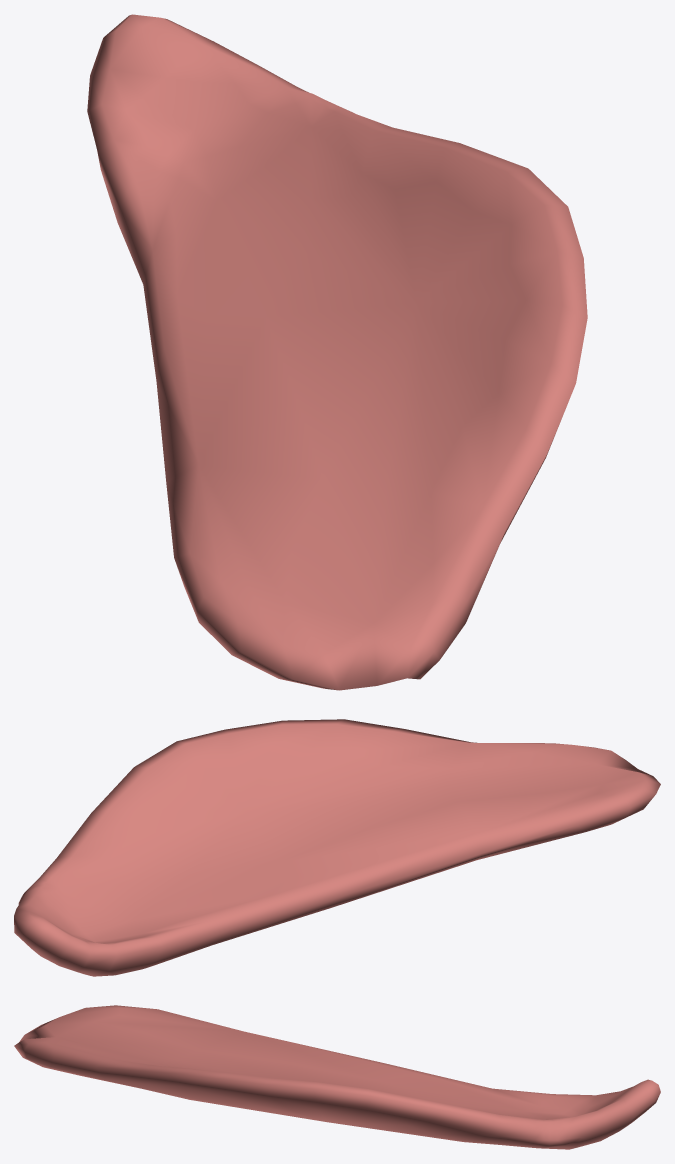
3 renders of one model, top to bottom at view 1: azimuth 30°, elevation 25°; view 2: azimuth 150°, elevation 25°; view 3: azimuth 270°, elevation 25°, orthographic. The views are drawn at different scales.
Parts seen in each view (by area): view 1: ZA_3ccdcd258c0ebc92; view 2: ZA_3ccdcd258c0ebc92; view 3: ZA_3ccdcd258c0ebc92.
Boxes of the visible parts, x1,y1,x2,y2 form: ZA_3ccdcd258c0ebc92: [87, 14, 587, 690]; ZA_3ccdcd258c0ebc92: [14, 719, 660, 976]; ZA_3ccdcd258c0ebc92: [14, 1005, 660, 1149].
Size of the model in its own units: 0.00585 by 0.00163 by 0.011.
